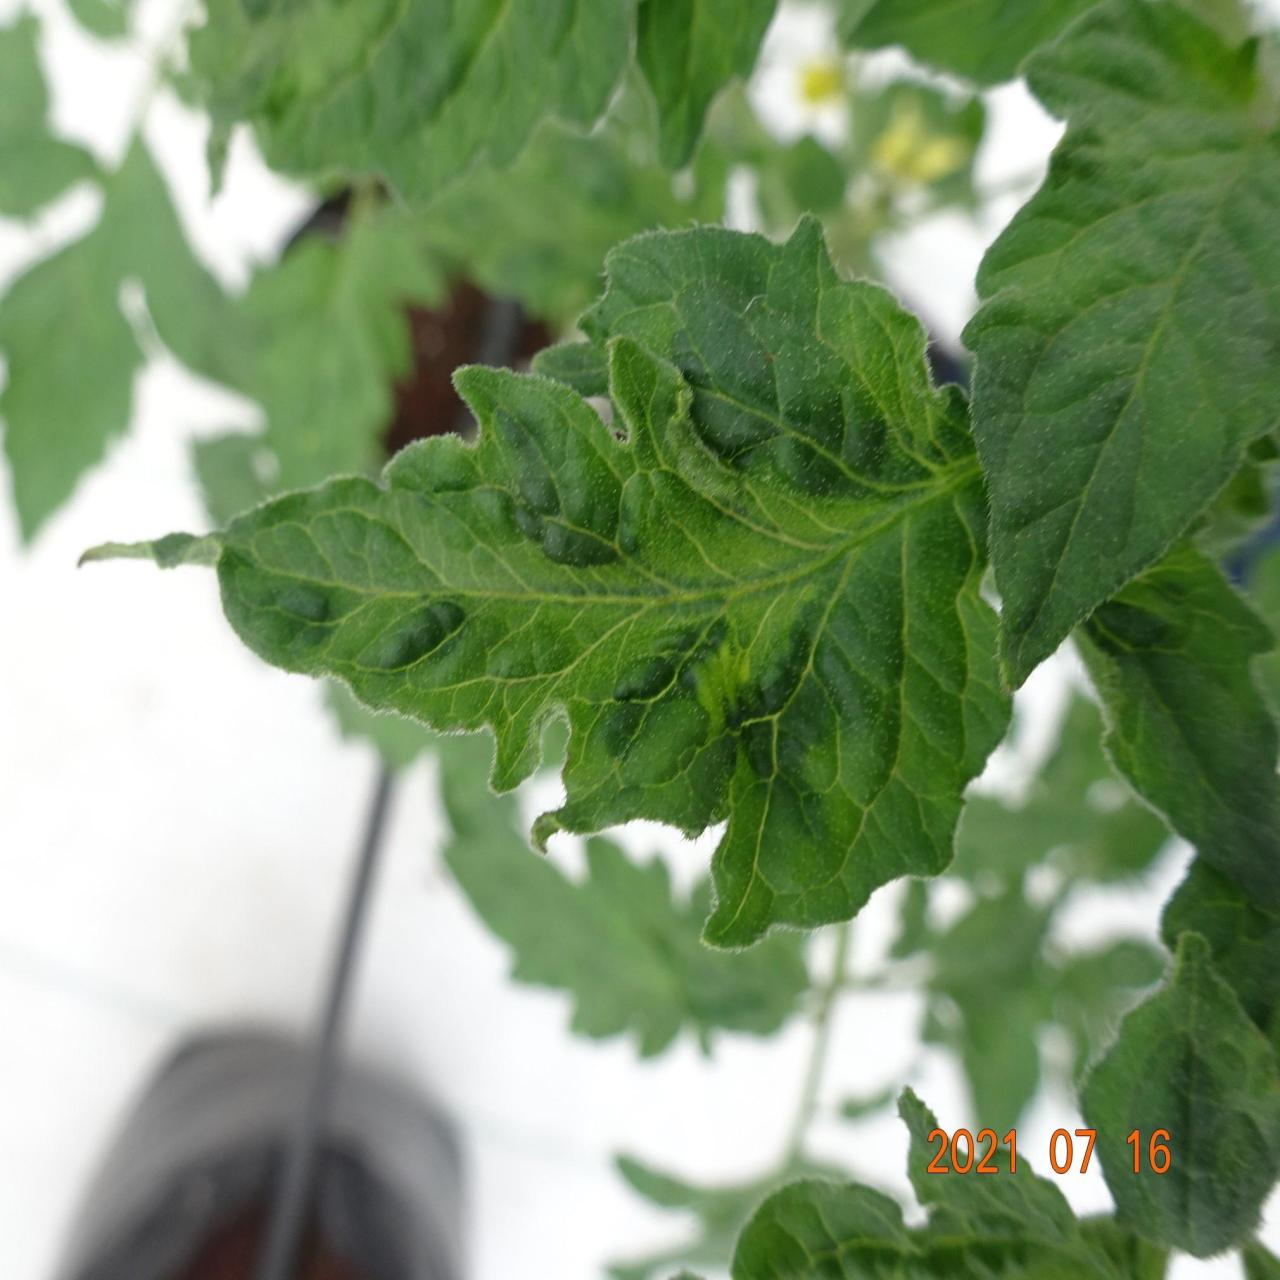T_L_R: (211, 220, 1013, 956), (966, 4, 1280, 682), (1084, 933, 1280, 1257)
